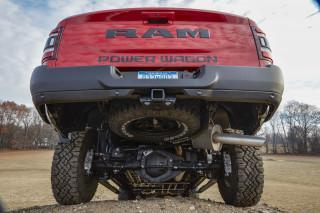ram: (101, 24, 214, 42)
